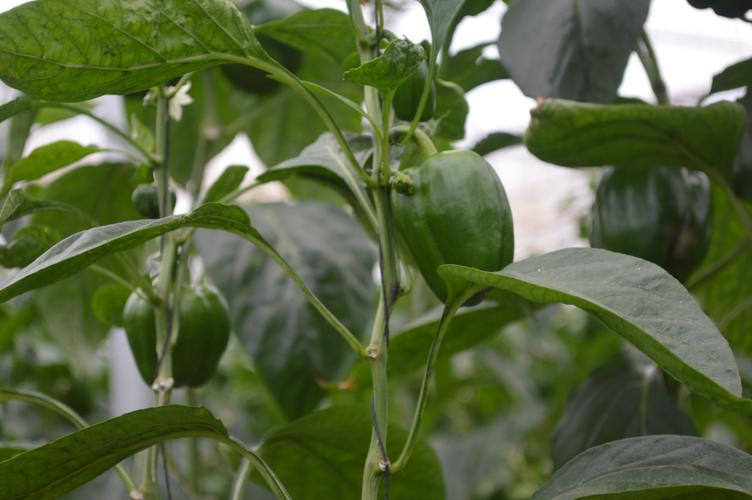BellPepper: (385, 144, 525, 320), (114, 260, 238, 394)
